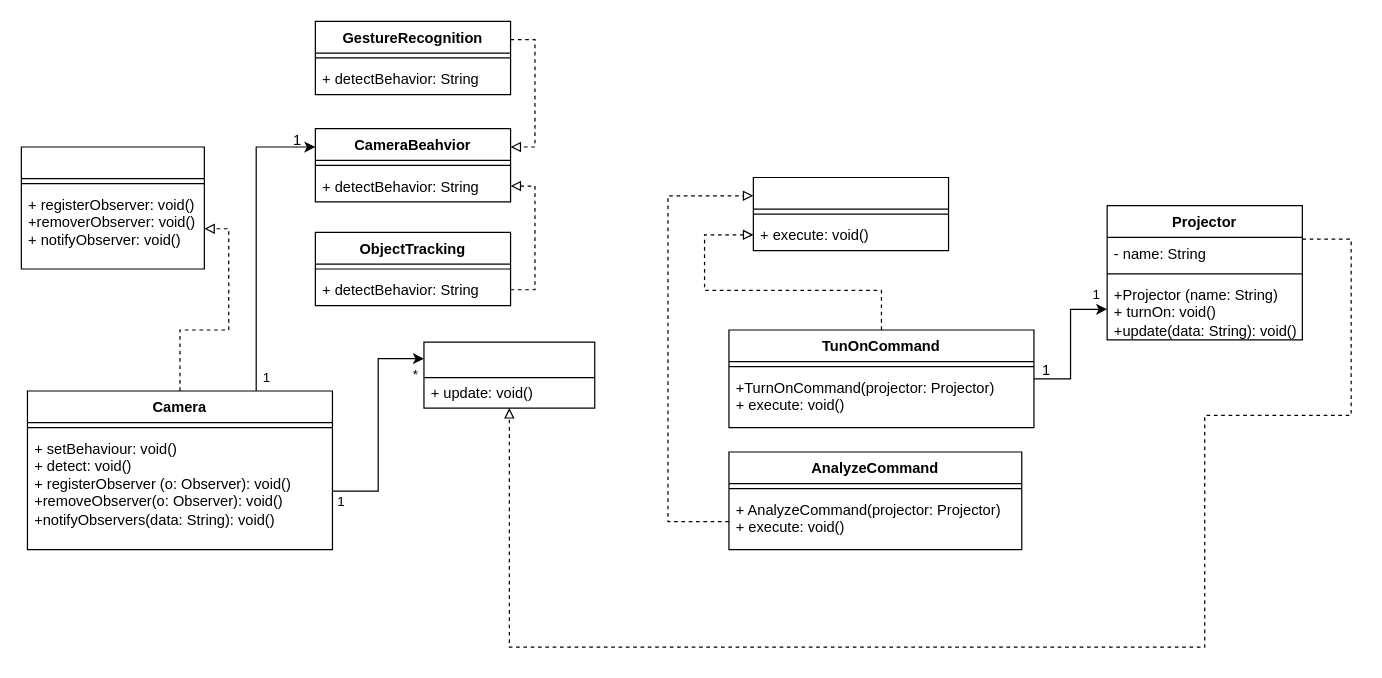
Some shapes in this 1382 by 678 pixel diagram are drawn without their labels. The box of each missing label's shape, as (x1, y1, x2, y2) in pixels:
Command: (752, 176, 949, 251)
Observer: (423, 341, 595, 408)
Subject: (20, 146, 204, 269)
